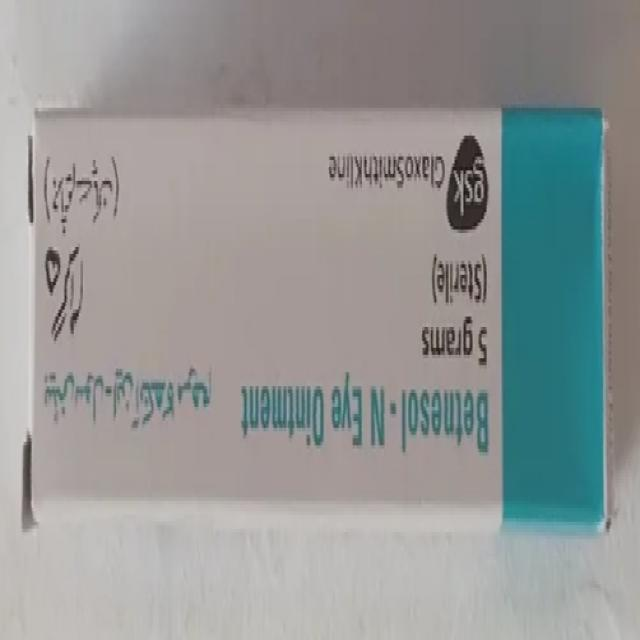drug-name: (369, 378, 492, 464)
